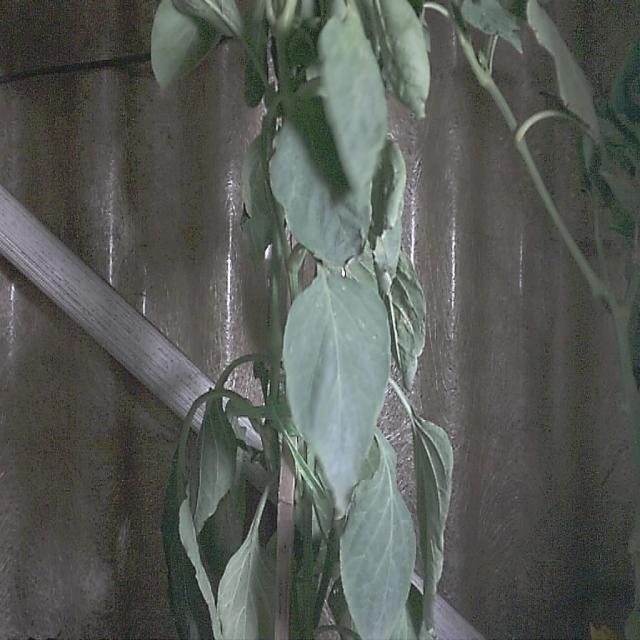Leaf: (284, 269, 389, 514), (340, 432, 415, 638), (527, 0, 599, 139), (219, 489, 275, 639), (151, 0, 219, 88), (461, 0, 522, 53)
